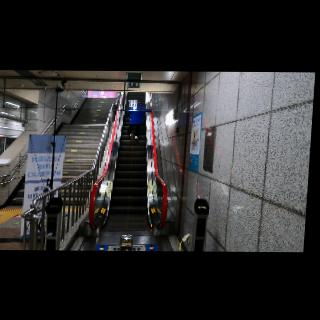normal: (118, 97, 160, 143)
